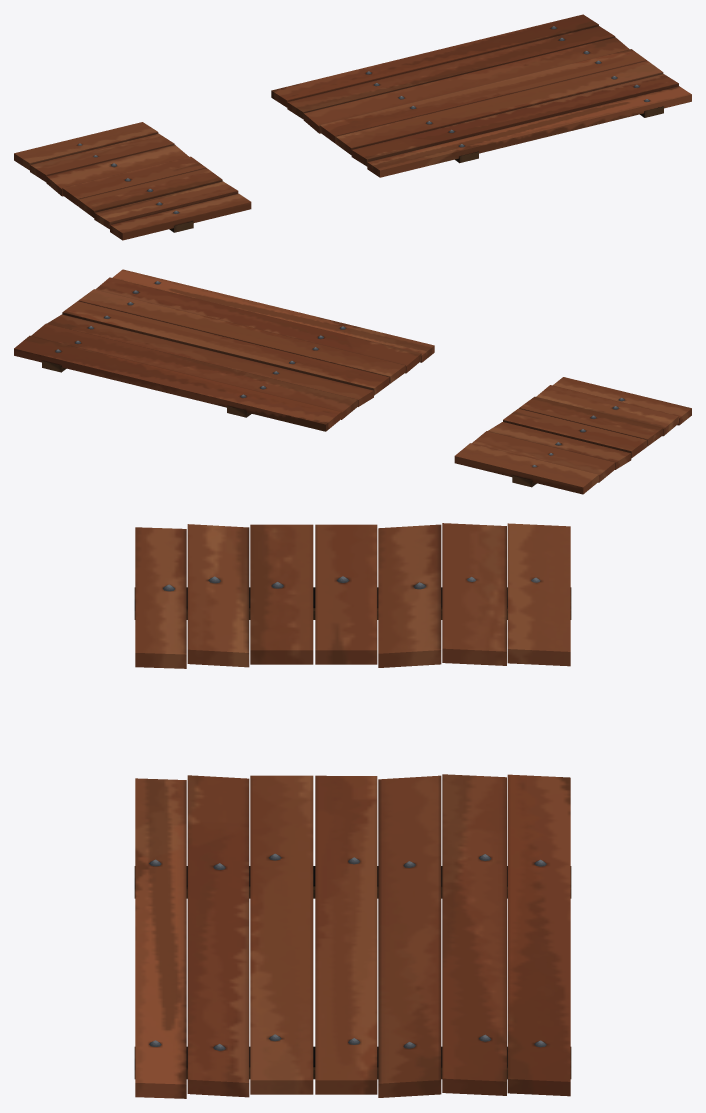
The model's file is 2P_SolEtage-10O.FBX.
3 views of the same model, one above another, from view 1: azimuth 30°, elevation 25°; view 2: azimuth 150°, elevation 25°; view 3: azimuth 270°, elevation 25° (orthographic). The views are drawn at different scales.
Visible parts, largest first — view 1: 2P_SolEtage-10O; view 2: 2P_SolEtage-10O; view 3: 2P_SolEtage-10O.
Part boxes in pixels (left/top/right/bottom): 2P_SolEtage-10O: left=14, top=14, right=691, bottom=240; 2P_SolEtage-10O: left=14, top=269, right=691, bottom=494; 2P_SolEtage-10O: left=134, top=523, right=571, bottom=1098.
Bounding box in the file's own units: 30.11 × 0.7754 × 10.
